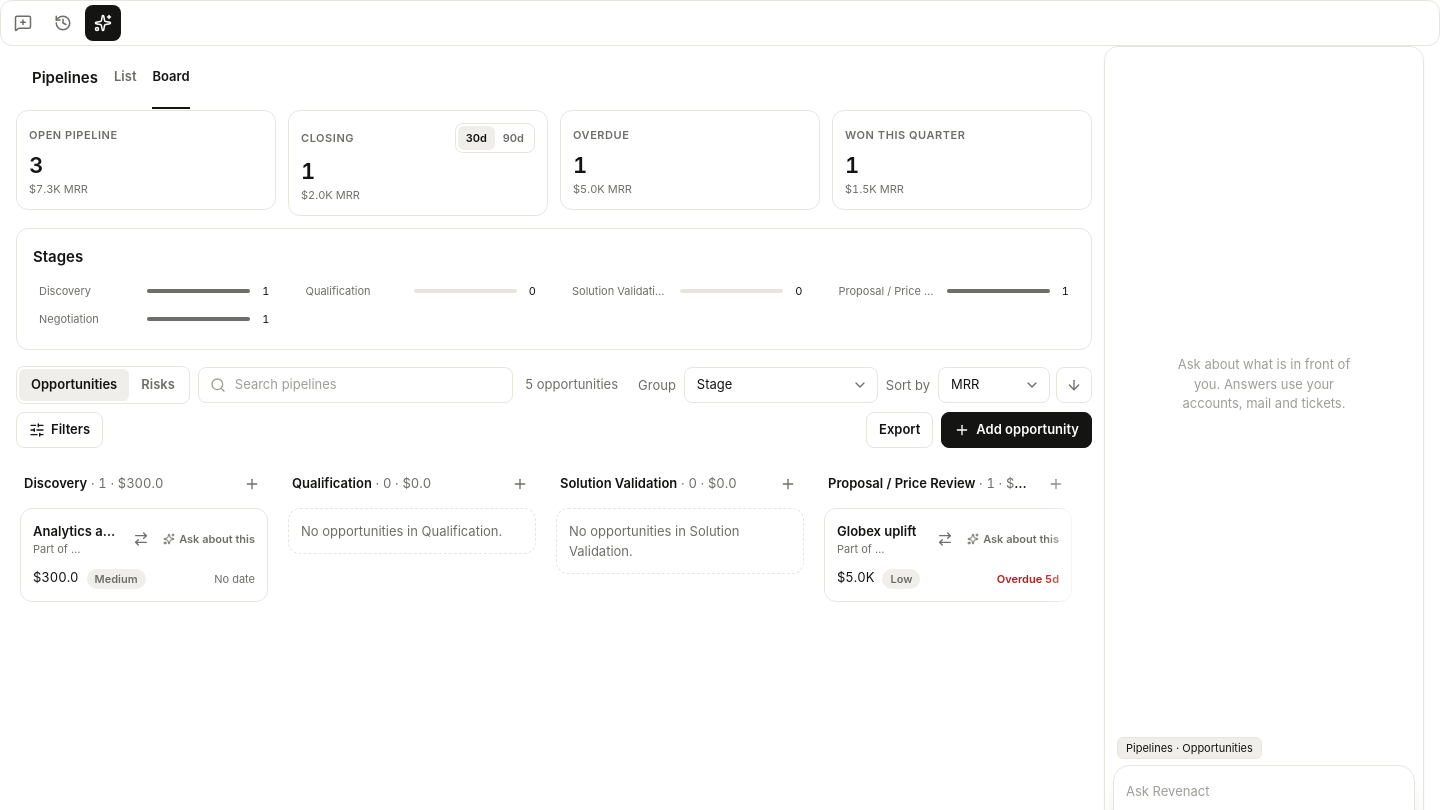
it: History on Pipelines › reopens an ungrouped List as group=none
Click the button named "History": (63, 23) [45,5,81,41]
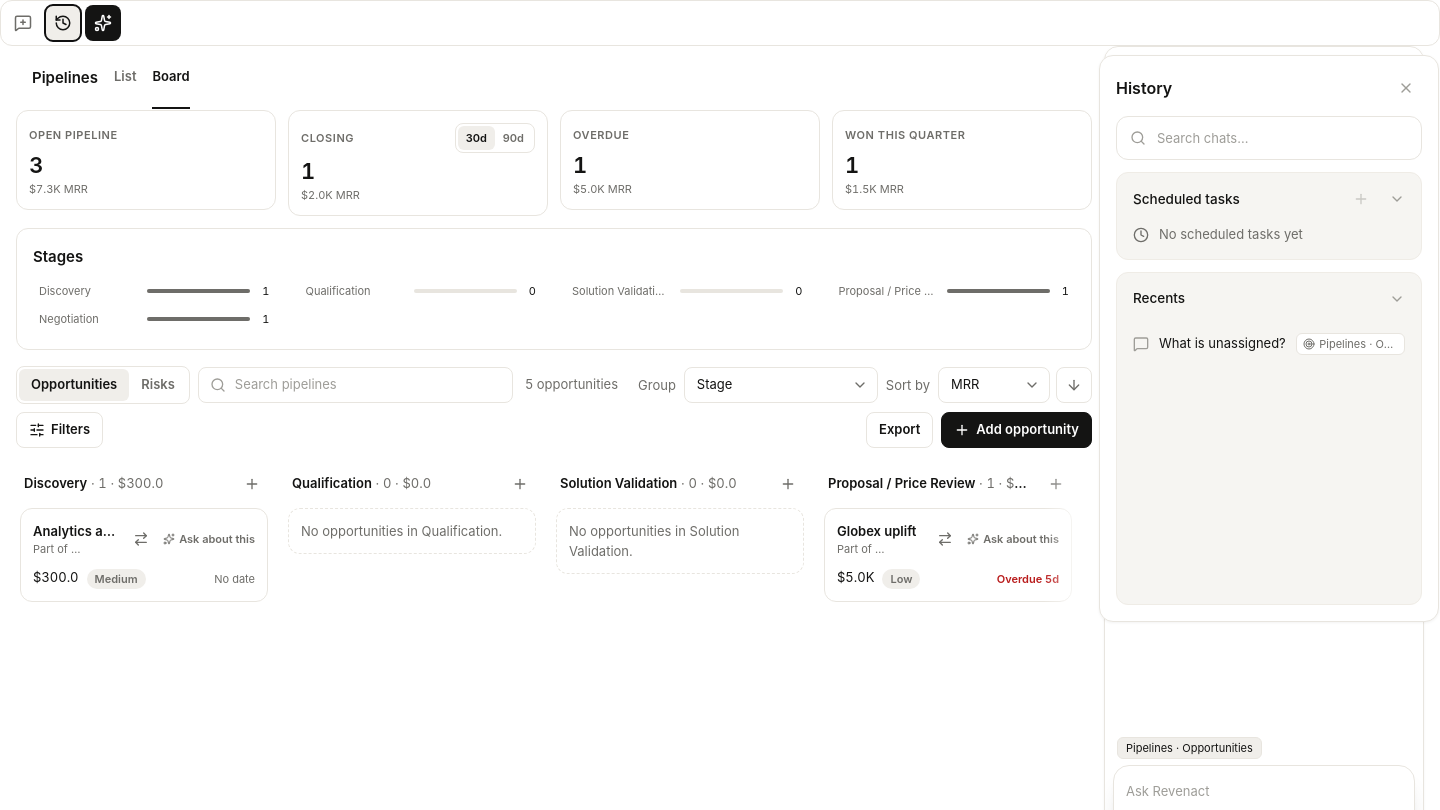
Click the button "What is unassigned?": (1269, 344) [1125,324,1413,363]
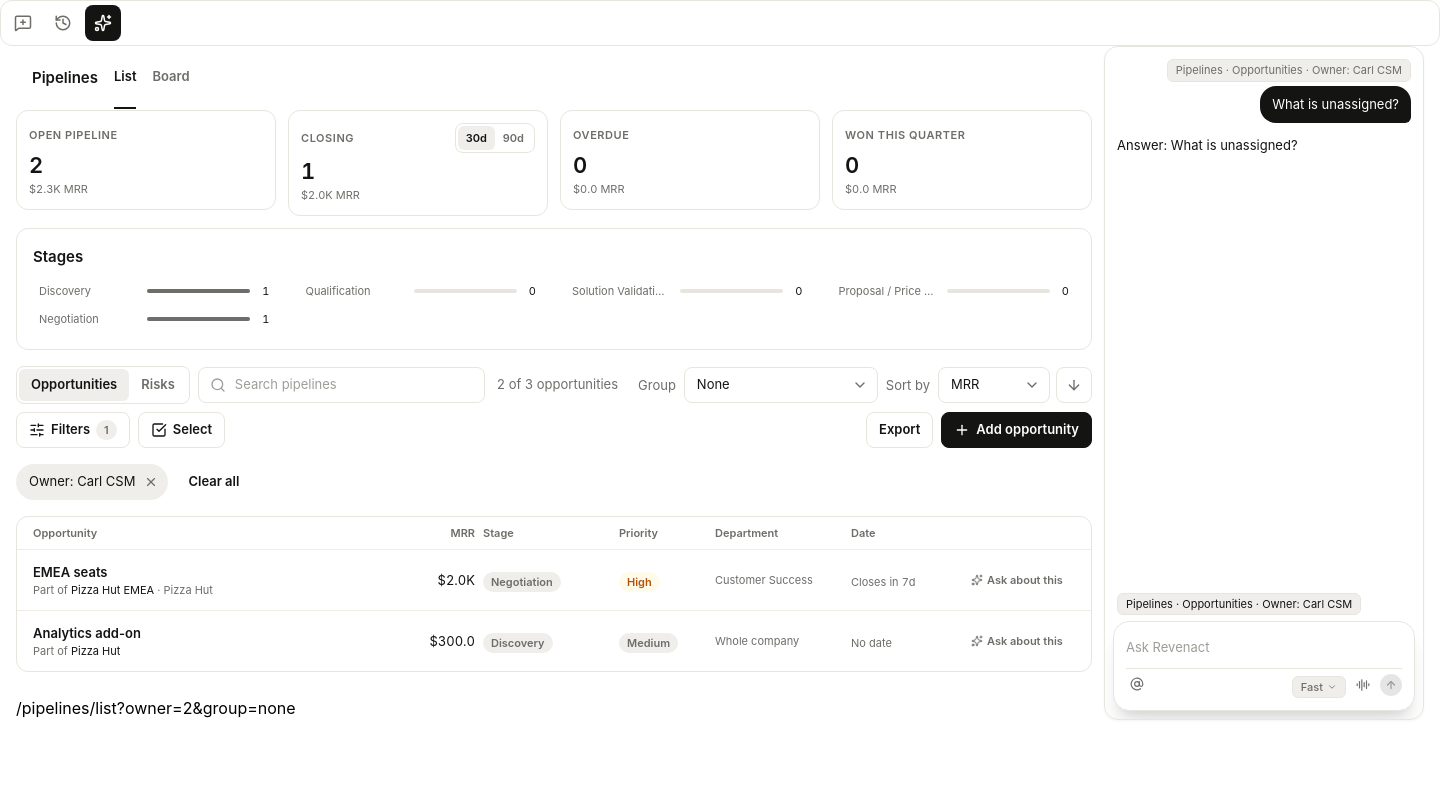
Expected: the text with test id "where" reads "/pipelines/list?owner=2&group=none", [16,698,296,718]
